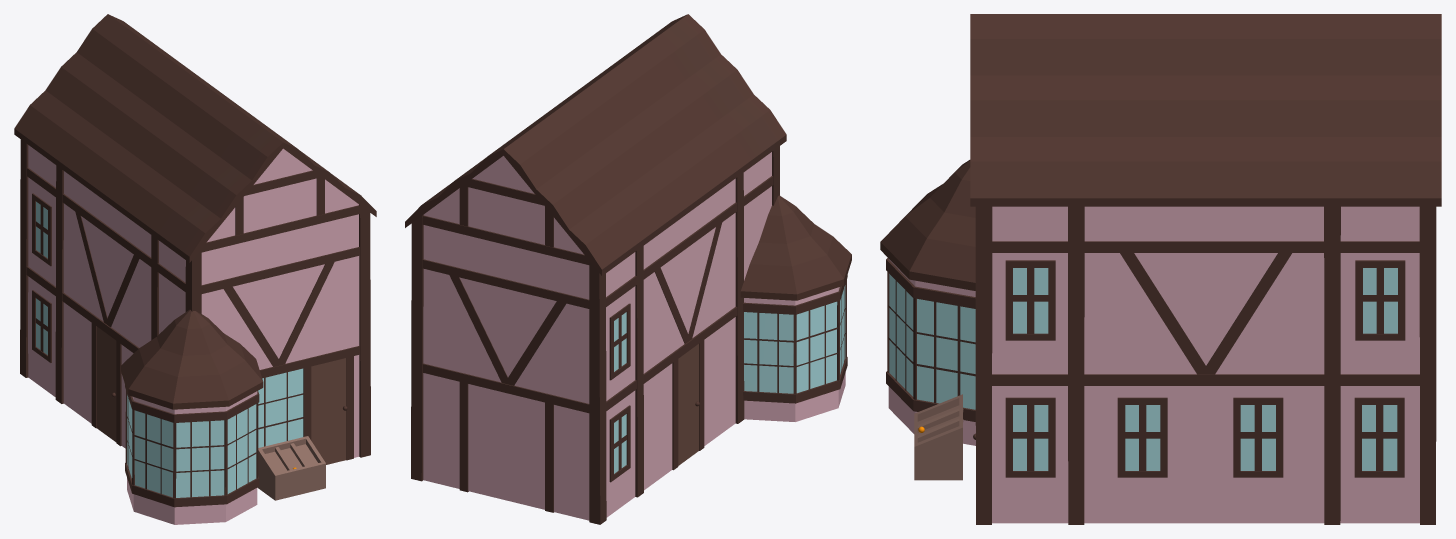
The model's file is Shops.fbx.
3 views of the same model, side by side, from view 1: azimuth 30°, elevation 25°; view 2: azimuth 150°, elevation 25°; view 3: azimuth 270°, elevation 25° (orthographic). The views are drawn at different scales.
Parts seen in each view (by area): view 1: Icosphere.001; view 2: Icosphere.001; view 3: Icosphere.001.
Part boxes in pixels (x1,y1,x2,y2): Icosphere.001: (14, 14, 376, 524); Icosphere.001: (405, 14, 851, 524); Icosphere.001: (880, 14, 1441, 524).
Size of the model in its own units: 712 by 937 by 1053.
